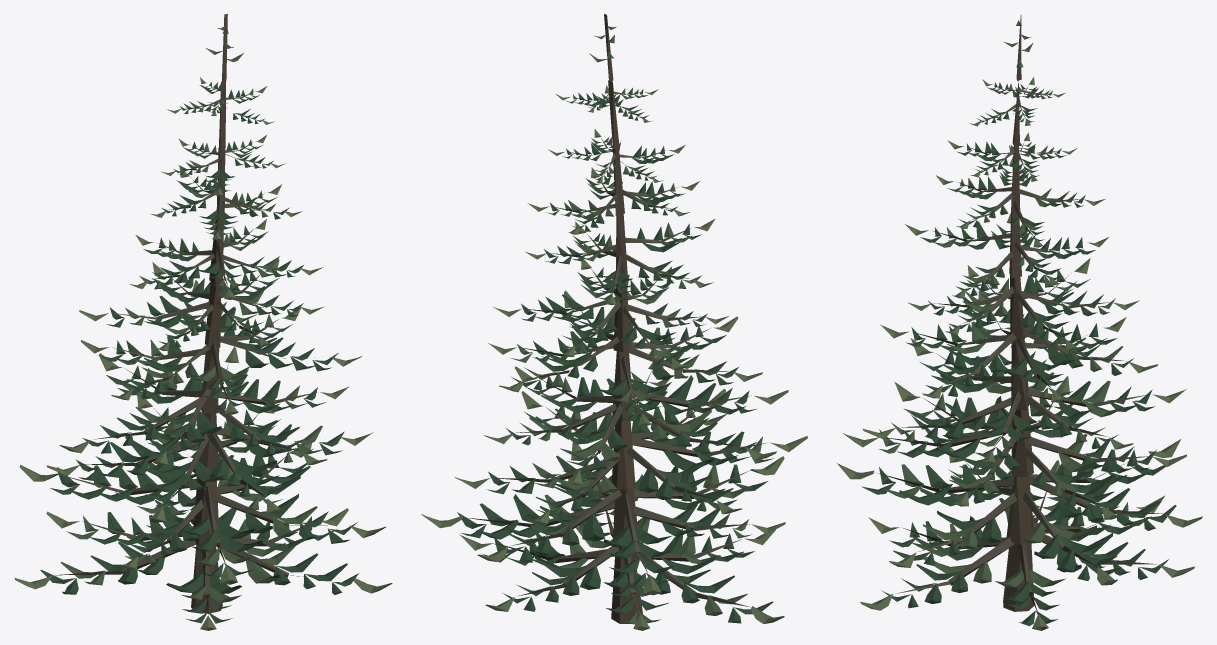
Rendered from spruce_dry.glb.
3 renders of one model, left to right at view 1: azimuth 30°, elevation 25°; view 2: azimuth 150°, elevation 25°; view 3: azimuth 270°, elevation 25°, orthographic. The views are drawn at different scales.
Visible parts, largest first — view 1: spruce_dry; view 2: spruce_dry; view 3: spruce_dry.
Part boxes in pixels (x1=…): spruce_dry: x1=14, y1=14, x2=392, y2=630; spruce_dry: x1=421, y1=14, x2=807, y2=630; spruce_dry: x1=837, y1=14, x2=1202, y2=630.
Size of the model in its own units: 2.22 by 3.81 by 2.11.
